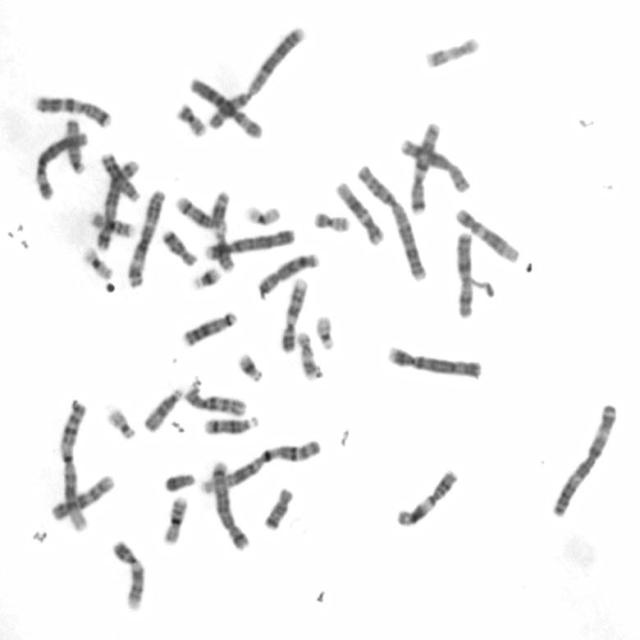A1: (197, 436, 322, 496), (56, 396, 89, 532)
A2: (204, 21, 308, 132), (354, 162, 428, 282)
A3: (548, 399, 620, 517), (124, 186, 166, 289)
B4: (385, 342, 483, 382), (201, 224, 296, 262)
B5: (93, 155, 140, 250), (208, 456, 250, 551)
C10: (47, 470, 116, 521), (181, 381, 249, 417)
C11: (393, 466, 460, 528), (210, 188, 237, 274)
C12: (451, 204, 520, 264), (332, 178, 385, 247)
C6: (187, 73, 264, 140), (31, 127, 89, 202)
C7: (407, 118, 441, 214), (31, 92, 113, 128)
C8: (397, 133, 472, 194), (253, 250, 321, 300)
C9: (108, 536, 146, 612), (276, 273, 310, 355)
D13: (179, 307, 239, 349), (98, 150, 143, 204)
D14: (172, 191, 226, 231), (200, 412, 260, 437)
D15: (140, 384, 185, 435), (62, 115, 87, 176)
E16: (158, 491, 190, 546), (86, 208, 135, 239)
E17: (422, 34, 481, 70), (295, 328, 323, 382)
E18: (260, 484, 295, 532), (158, 226, 198, 267)
F19: (79, 243, 115, 280), (241, 201, 282, 227)
F20: (173, 99, 208, 139), (310, 208, 351, 234)
G21: (235, 350, 266, 384), (190, 264, 222, 292)
G22: (103, 404, 137, 442), (313, 312, 337, 352)
X: (452, 230, 475, 320)
Y: (161, 469, 197, 494)
